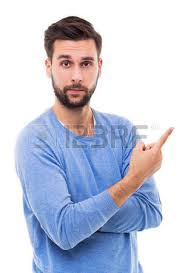hand: (124, 120, 180, 185)
